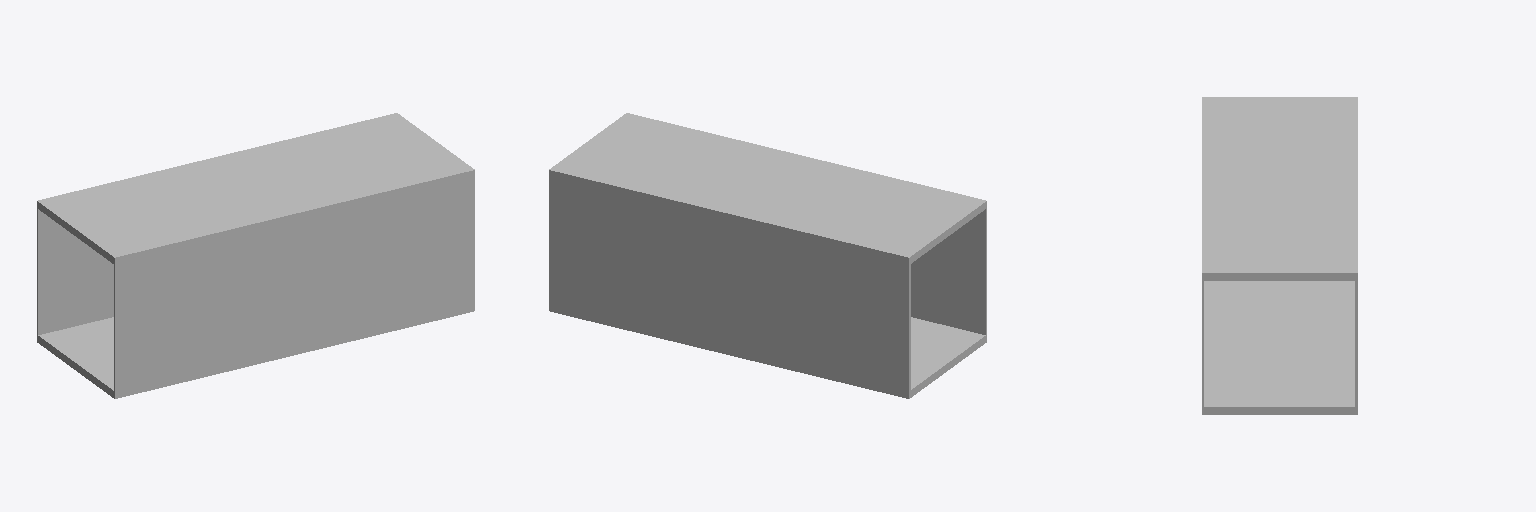
The model's file is Crate_B_Empty.obj.
3 renders of one model, left to right at view 1: azimuth 30°, elevation 25°; view 2: azimuth 150°, elevation 25°; view 3: azimuth 270°, elevation 25°, orthographic.
Parts seen in each view (by area): view 1: Cargo_1_open; view 2: Cargo_1_open; view 3: Cargo_1_open.
Boxes of the visible parts, <box> form: Cargo_1_open: <box>37,113,474,398</box>; Cargo_1_open: <box>549,113,986,398</box>; Cargo_1_open: <box>1202,97,1357,414</box>.
Bounding box in the file's own units: 8 × 3 × 3.